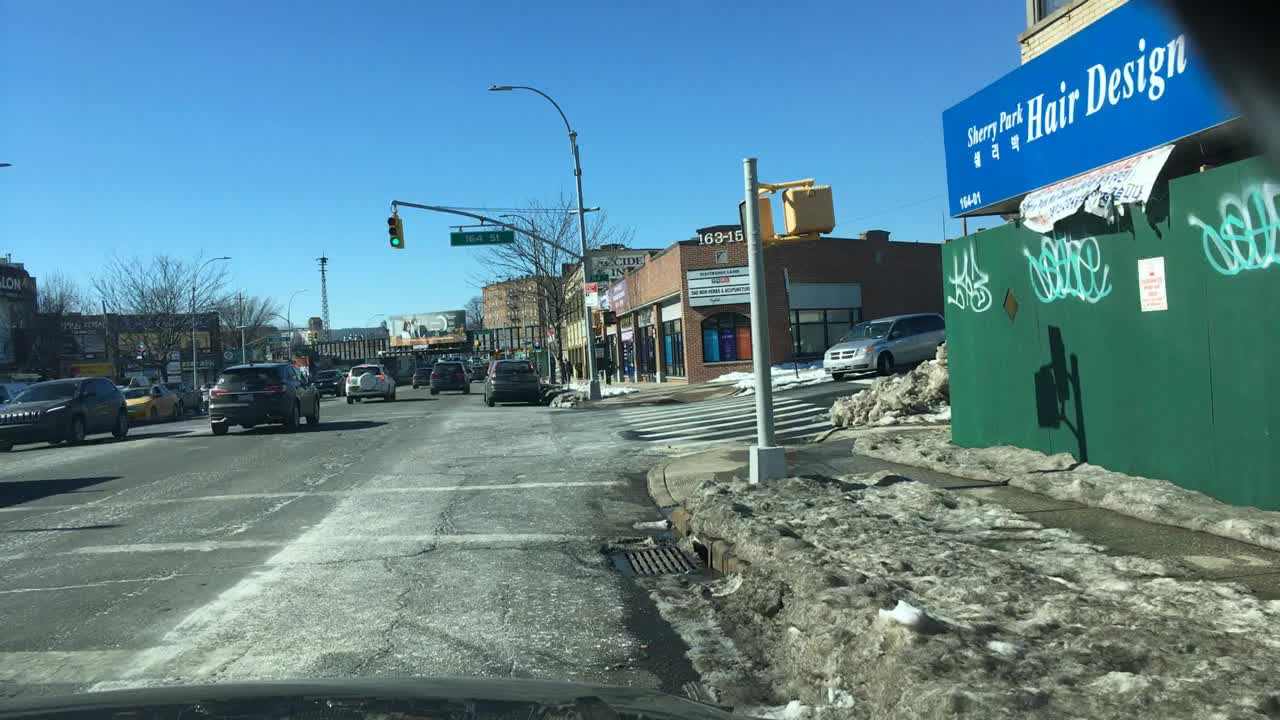car: (0, 376, 129, 450), (822, 313, 947, 380), (208, 362, 322, 433), (114, 376, 181, 421), (484, 356, 541, 407), (344, 364, 396, 403), (426, 362, 471, 398), (164, 381, 204, 407), (310, 369, 347, 396), (193, 381, 218, 410), (0, 381, 28, 406), (466, 365, 487, 385), (412, 369, 432, 387), (462, 353, 489, 364)
person: (602, 355, 616, 385), (561, 356, 572, 381), (574, 356, 585, 378)
traffic light: (783, 184, 833, 236), (738, 197, 772, 245), (387, 216, 405, 247)
traffic sign: (448, 229, 514, 247), (584, 283, 597, 306), (265, 335, 292, 344), (590, 274, 609, 283), (784, 269, 789, 292)
